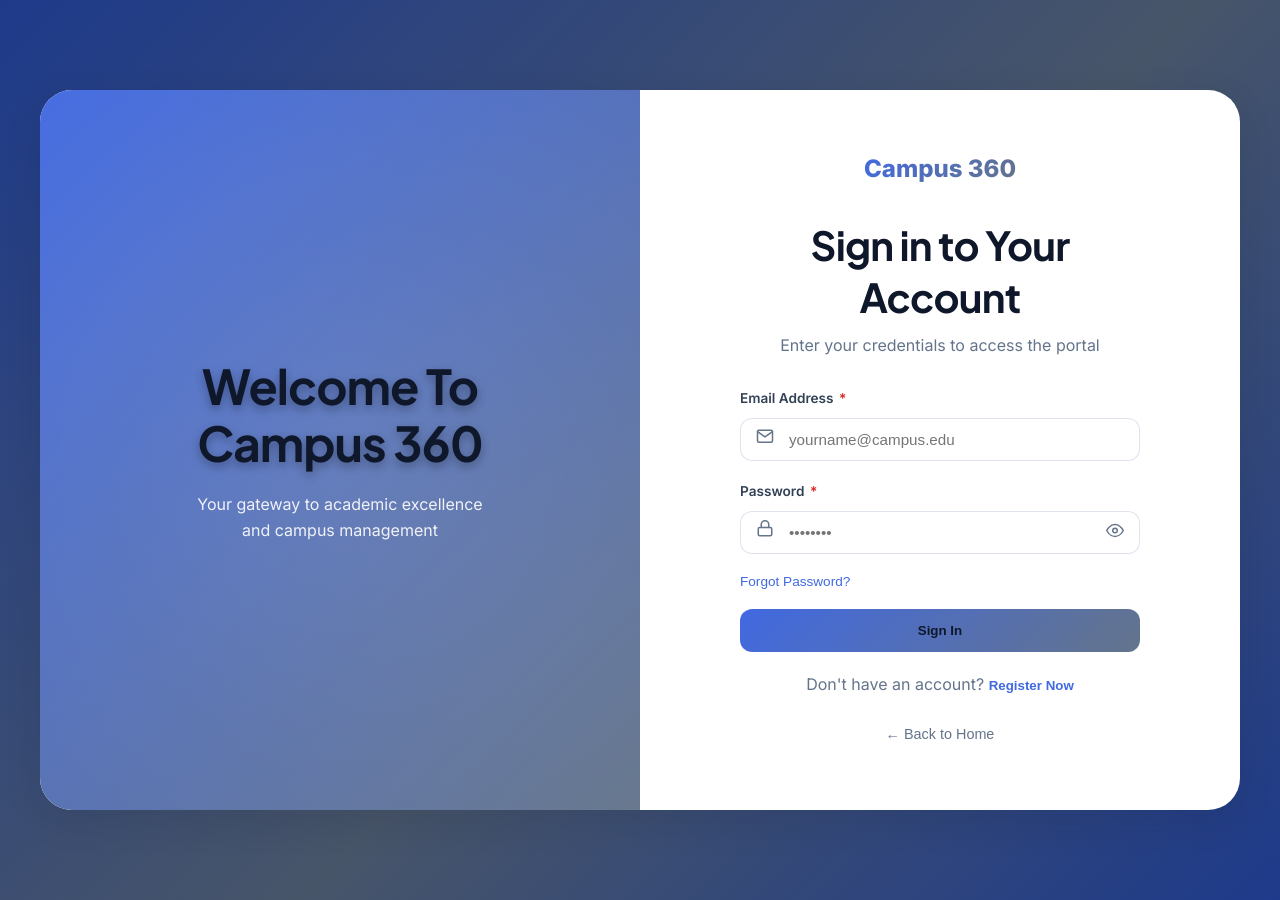
LoginPage › shows validation errors for empty submit
The image size is (1280, 900).
Click the button "Sign In" at (940, 630), box [740,609,1140,652]
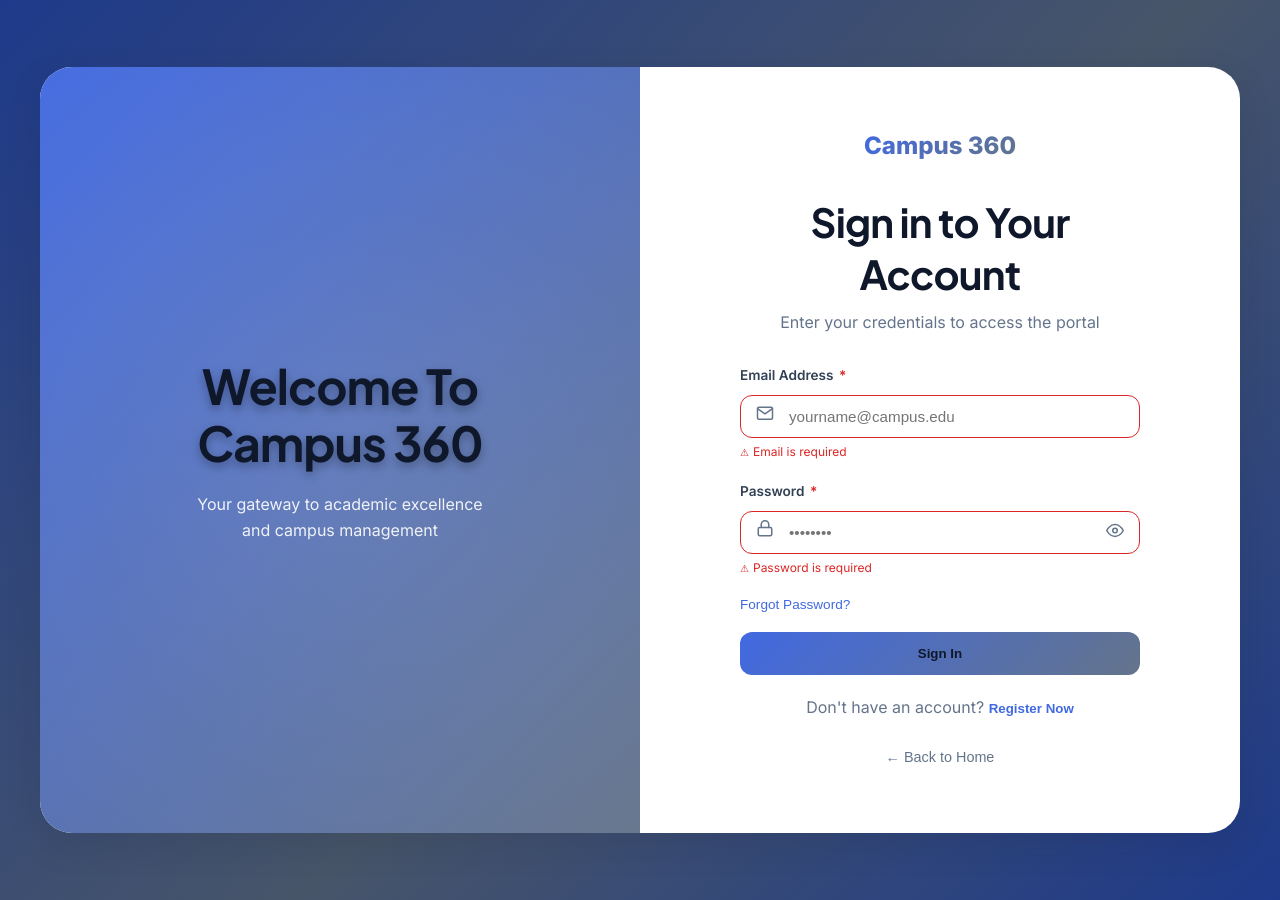
Expected: the text "Email is required" is shown, [753,444,847,459]
